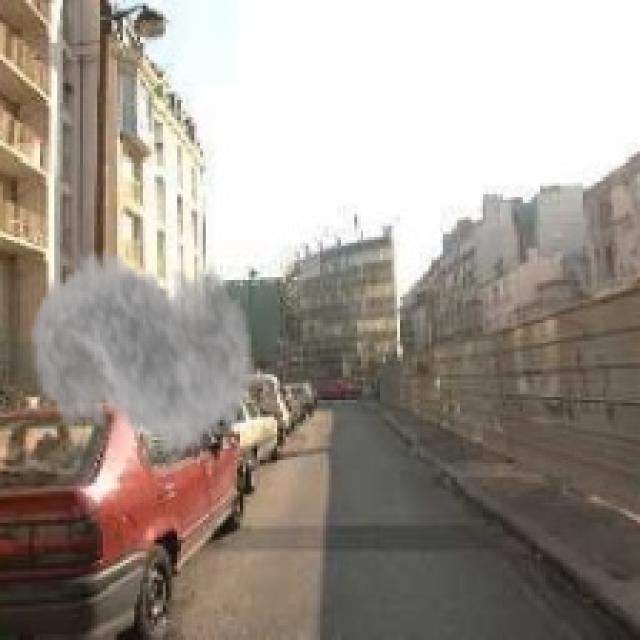smoke: (29, 223, 257, 474)
